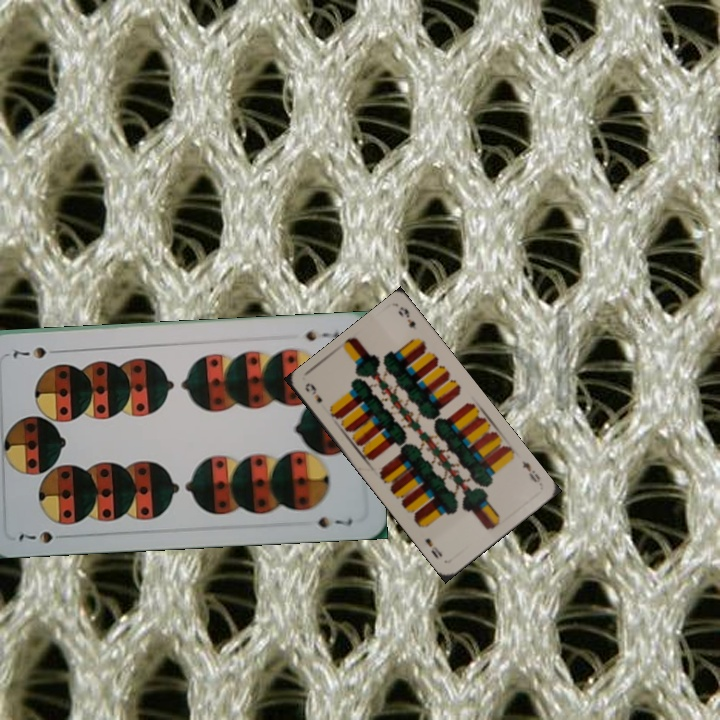E9: (518, 456, 543, 485), (300, 379, 325, 406)
S7: (15, 527, 56, 546), (301, 327, 342, 344)
